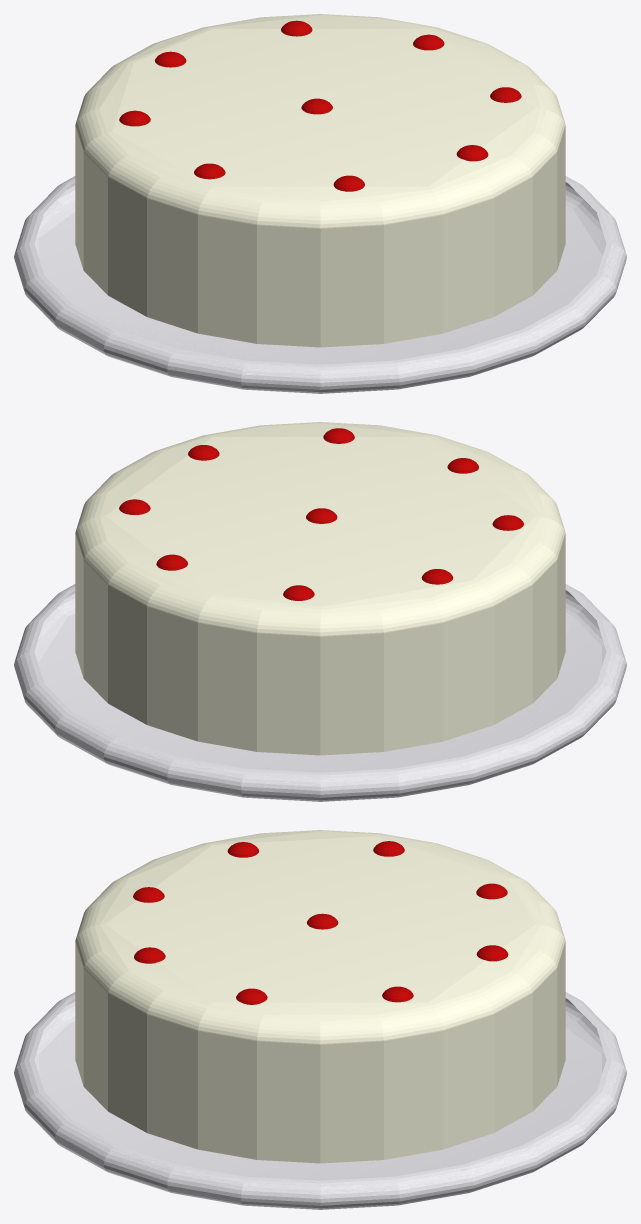
File: torta-3.glb
3 views of the same model, one above another, from view 1: azimuth 30°, elevation 25°; view 2: azimuth 150°, elevation 25°; view 3: azimuth 270°, elevation 25° (orthographic).
Parts seen in each view (by area): view 1: SketchUp, SketchUp.002, SketchUp.003; view 2: SketchUp, SketchUp.002, SketchUp.003; view 3: SketchUp, SketchUp.002, SketchUp.003.
Boxes of the visible parts, x1,y1,x2,y2 form: SketchUp: (75, 14, 565, 347); SketchUp.002: (14, 176, 626, 393); SketchUp.003: (119, 20, 521, 191); SketchUp: (75, 422, 565, 755); SketchUp.002: (14, 584, 626, 801); SketchUp.003: (119, 428, 523, 600); SketchUp: (75, 830, 565, 1163); SketchUp.002: (14, 992, 626, 1209); SketchUp.003: (133, 841, 508, 1004).
Bounding box in the file's own units: 0.2462 × 0.0749 × 0.2462.
Materials: 4 (1 with a texture image).
